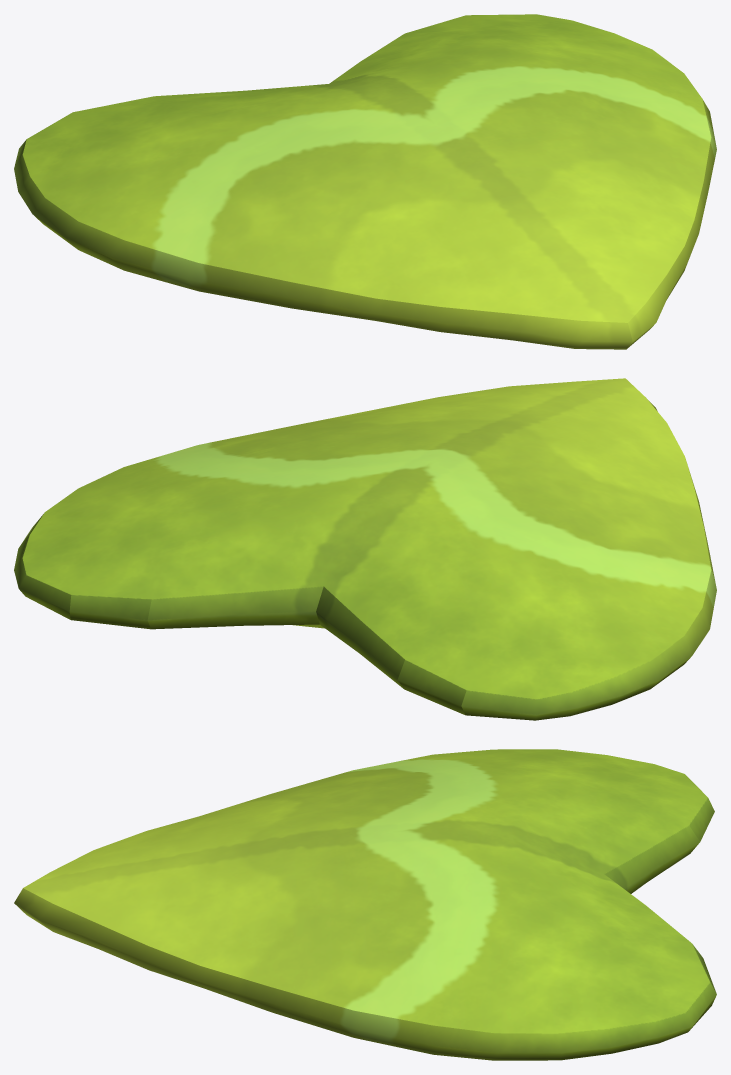
Rendered from clover.fbx.
The picture shows the model from 3 angles, top to bottom: view 1: azimuth 30°, elevation 25°; view 2: azimuth 150°, elevation 25°; view 3: azimuth 270°, elevation 25°; orthographic projection. The views are drawn at different scales.
Parts seen in each view (by area): view 1: pPlane1; view 2: pPlane1; view 3: pPlane1.
Part boxes in pixels (box(x1,y1,x2,y2)): pPlane1: box(14, 14, 716, 349); pPlane1: box(14, 378, 716, 720); pPlane1: box(14, 749, 716, 1060).
Bounding box in the file's own units: 10.69 × 2.19 × 10.81.
